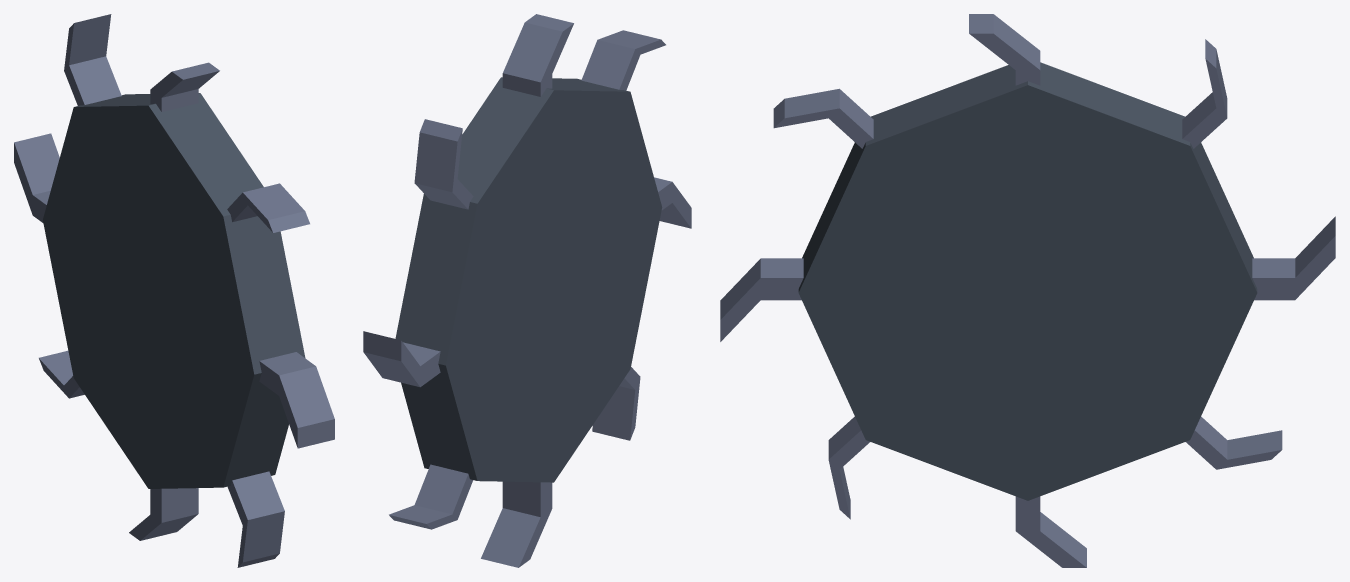
The model's file is Greasley_Saw.fbx.
The picture shows the model from 3 angles, left to right: view 1: azimuth 30°, elevation 25°; view 2: azimuth 150°, elevation 25°; view 3: azimuth 270°, elevation 25°; orthographic projection. The views are drawn at different scales.
Visible parts, largest first — view 1: Saw; view 2: Saw; view 3: Saw.
Boxes of the visible parts, box(x1,y1,x2,y2) form: Saw: box(14, 14, 334, 567); Saw: box(363, 14, 691, 567); Saw: box(720, 14, 1335, 567).
Bounding box in the file's own units: 20.89 × 189 × 198.
